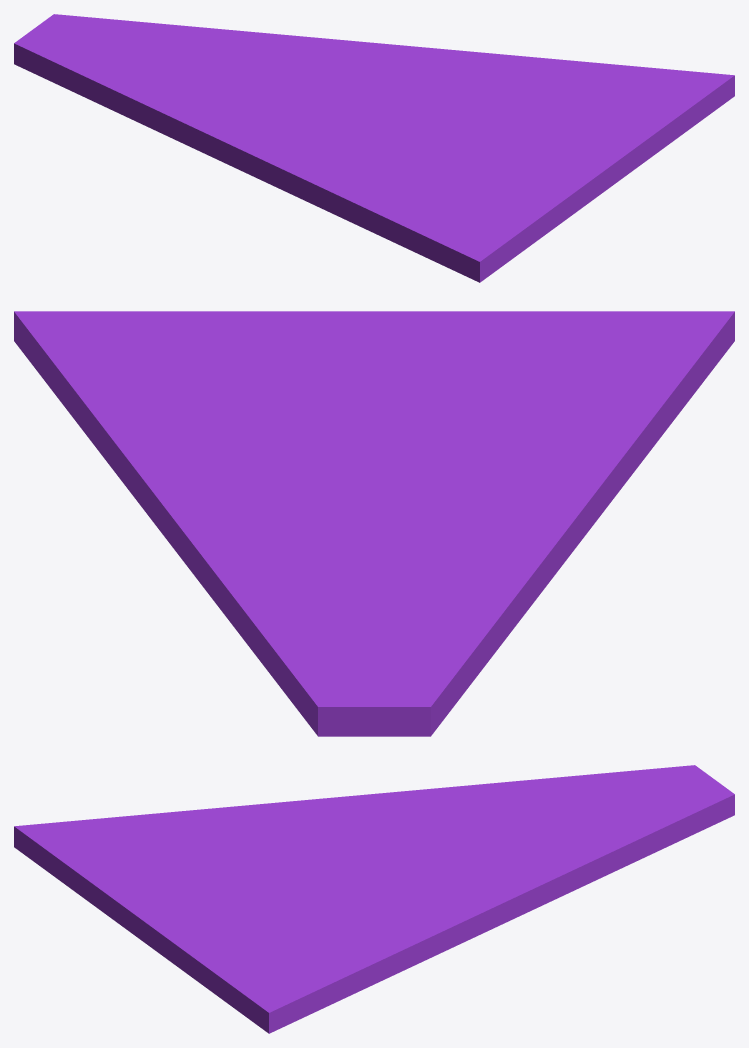
Rendered from StairsStep_3_chunks.fbx.
3 renders of one model, top to bottom at view 1: azimuth 30°, elevation 25°; view 2: azimuth 150°, elevation 25°; view 3: azimuth 270°, elevation 25°, orthographic. The views are drawn at different scales.
Parts seen in each view (by area): view 1: StairsStep_3_0, StairsStep_3_1, StairsStep_3_3, StairsStep_3_2; view 2: StairsStep_3_0, StairsStep_3_1, StairsStep_3_3, StairsStep_3_2; view 3: StairsStep_3_0, StairsStep_3_1, StairsStep_3_3, StairsStep_3_2.
Boxes of the visible parts, box(x1,y1,x2,y2) form: StairsStep_3_0: box(246, 105, 703, 282); StairsStep_3_1: box(14, 14, 315, 172); StairsStep_3_3: box(310, 60, 734, 118); StairsStep_3_2: box(209, 28, 567, 88); StairsStep_3_0: box(152, 311, 734, 538); StairsStep_3_1: box(249, 505, 585, 736); StairsStep_3_3: box(14, 311, 396, 521); StairsStep_3_2: box(40, 375, 352, 654); StairsStep_3_0: box(14, 796, 416, 1010); StairsStep_3_1: box(349, 765, 734, 859); StairsStep_3_3: box(220, 844, 452, 1033); StairsStep_3_2: box(309, 844, 638, 1014).
Bounding box in the file's own units: 456 × 17.94 × 561.
